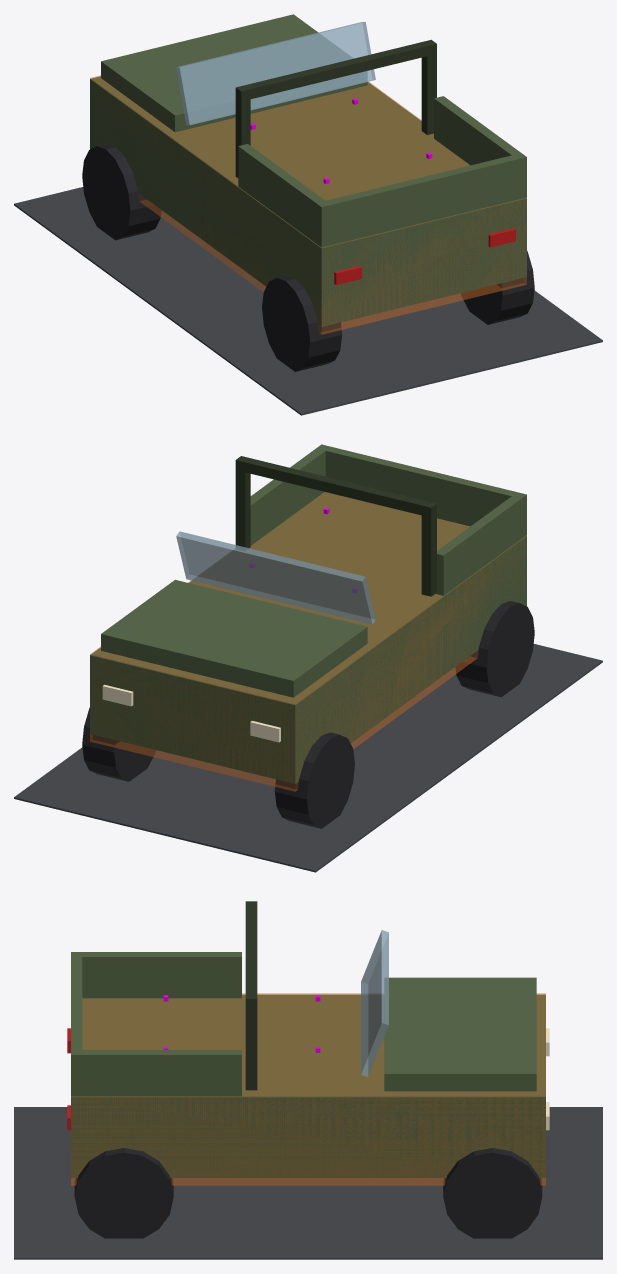
Rendered from Pickup.obj.
The picture shows the model from 3 angles, top to bottom: view 1: azimuth 30°, elevation 25°; view 2: azimuth 150°, elevation 25°; view 3: azimuth 270°, elevation 25°; orthographic projection. The views are drawn at different scales.
Parts seen in each view (by area): view 1: Ref_Body, Ref_Ground, Ref_Chassis, Ref_Hood, Ref_BedWallBack, Ref_Windshield, Wheel_RL, Wheel_FL, Ref_BedWallL, Ref_RollBar, Ref_BedWallR, Wheel_RR (+2 smaller); view 2: Ref_Body, Ref_Ground, Ref_Chassis, Ref_Hood, Ref_Windshield, Ref_BedWallBack, Wheel_FL, Wheel_RL, Ref_BedWallL, Ref_RollBar, Ref_BedWallR, Ref_RollBarPost (+2 smaller); view 3: Ref_Body, Ref_Chassis, Ref_Ground, Ref_Hood, Ref_BedWallR, Ref_BedWallL, Wheel_FR, Wheel_RR, Ref_Windshield, Ref_BedWallBack, Ref_RollBar, Ref_RollBarPost.
Part boxes in pixels (bbox=[...]): Ref_Body: bbox=[90, 76, 526, 326]; Ref_Ground: bbox=[14, 187, 602, 415]; Ref_Chassis: bbox=[90, 75, 526, 334]; Ref_Hood: bbox=[101, 14, 367, 132]; Ref_BedWallBack: bbox=[316, 153, 526, 247]; Ref_Windshield: bbox=[176, 22, 375, 125]; Wheel_RL: bbox=[262, 275, 342, 371]; Wheel_FL: bbox=[82, 144, 161, 240]; Ref_BedWallL: bbox=[238, 144, 326, 242]; Ref_RollBar: bbox=[235, 39, 436, 101]; Ref_BedWallR: bbox=[434, 96, 521, 165]; Wheel_RR: bbox=[461, 251, 534, 324]; Ref_Body: bbox=[90, 492, 526, 783]; Ref_Ground: bbox=[14, 644, 602, 872]; Ref_Chassis: bbox=[90, 492, 526, 791]; Ref_Hood: bbox=[101, 579, 367, 697]; Ref_Windshield: bbox=[176, 531, 375, 624]; Ref_BedWallBack: bbox=[317, 444, 526, 538]; Wheel_FL: bbox=[274, 732, 354, 828]; Wheel_RL: bbox=[455, 601, 534, 697]; Ref_BedWallL: bbox=[435, 496, 521, 595]; Ref_RollBar: bbox=[235, 456, 436, 517]; Ref_BedWallR: bbox=[250, 448, 326, 545]; Ref_RollBarPost: bbox=[235, 469, 436, 596]; Ref_Body: bbox=[71, 994, 545, 1177]; Ref_Chassis: bbox=[71, 993, 545, 1185]; Ref_Ground: bbox=[14, 1107, 602, 1259]; Ref_Hood: bbox=[384, 977, 536, 1091]; Ref_BedWallR: bbox=[80, 1050, 241, 1096]; Ref_BedWallL: bbox=[80, 952, 241, 998]; Wheel_FR: bbox=[443, 1148, 542, 1238]; Wheel_RR: bbox=[74, 1148, 173, 1238]; Ref_Windshield: bbox=[361, 930, 388, 1076]; Ref_BedWallBack: bbox=[71, 952, 82, 1096]; Ref_RollBar: bbox=[245, 901, 257, 1009]; Ref_RollBarPost: bbox=[245, 1008, 257, 1090].
Bounding box in the file's own units: 9.4 × 6.85 × 15.5.
